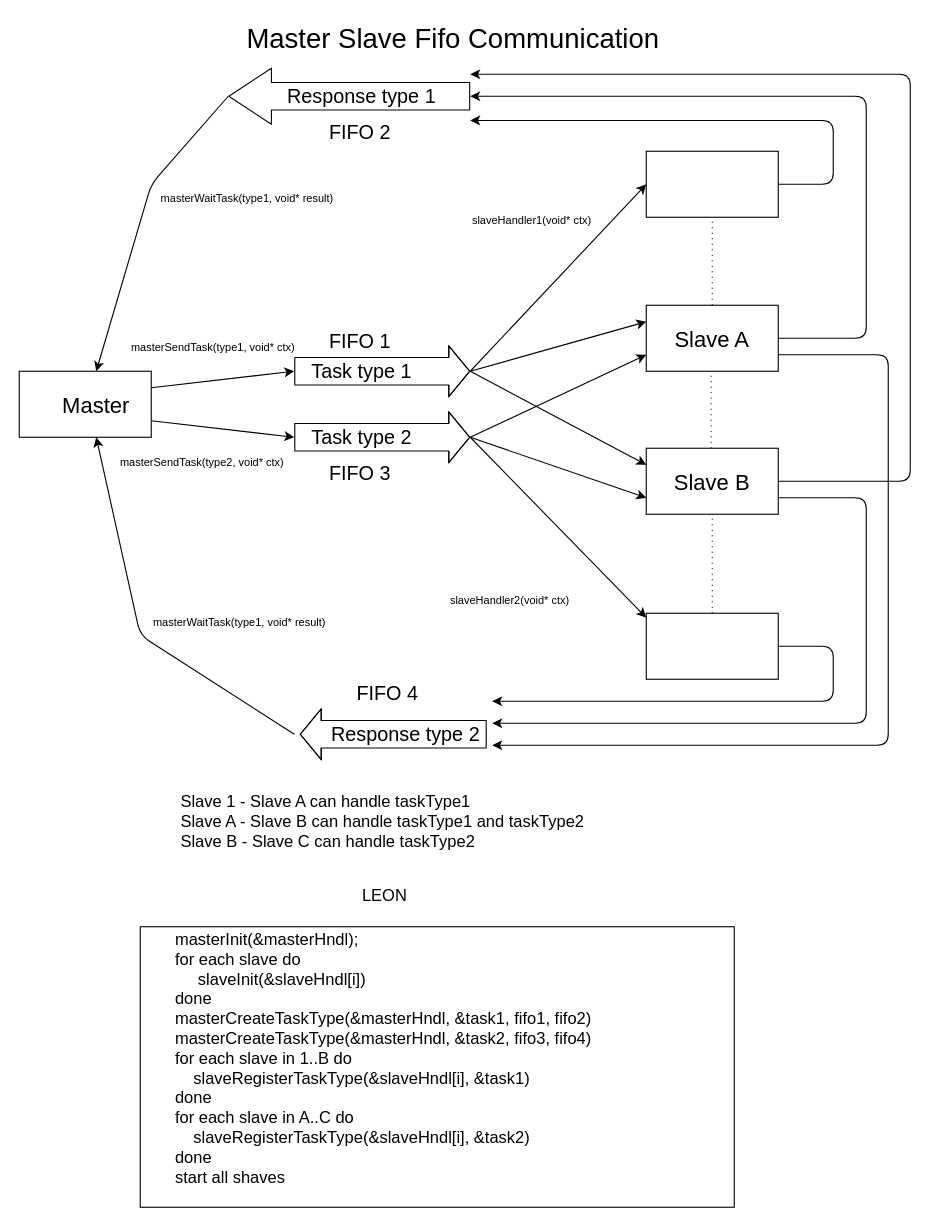
This 938x1227 diagram has some shape labels left out. The centre of each missing label's shape, as x and y in pixels:
"Slave 1" goes at (711,183).
"Slave C" goes at (711,645).
